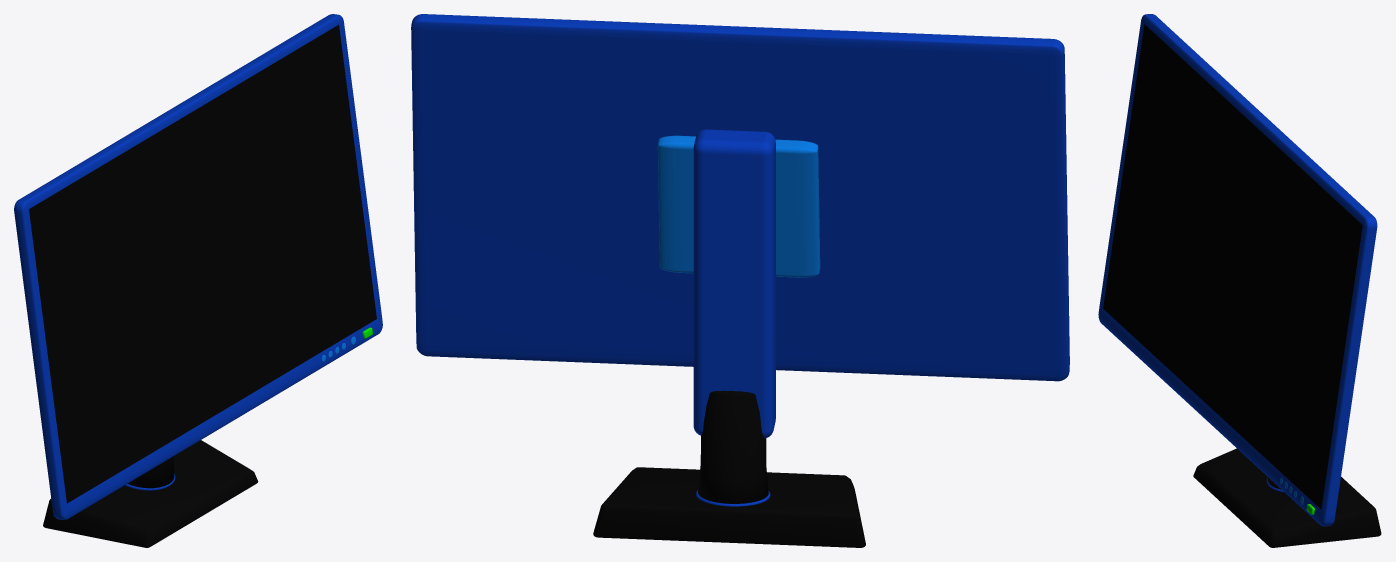
The model's file is Monitor.fbx.
3 renders of one model, left to right at view 1: azimuth 30°, elevation 25°; view 2: azimuth 150°, elevation 25°; view 3: azimuth 270°, elevation 25°, orthographic. The views are drawn at different scales.
Parts seen in each view (by area): view 1: Plane.001, Cube, Cube.002, Cylinder; view 2: Cube, Cube.001, Cube.002, Cube.003, Cylinder; view 3: Plane.001, Cube, Cube.002.
Part boxes in pixels (bbox=[...]): Plane.001: bbox=[29, 25, 376, 503]; Cube: bbox=[14, 14, 382, 519]; Cube.002: bbox=[43, 440, 258, 547]; Cylinder: bbox=[127, 456, 174, 488]; Cube: bbox=[411, 14, 1069, 381]; Cube.001: bbox=[693, 129, 775, 438]; Cube.002: bbox=[593, 467, 865, 547]; Cube.003: bbox=[657, 135, 820, 277]; Cylinder: bbox=[698, 390, 768, 503]; Plane.001: bbox=[1103, 24, 1362, 509]; Cube: bbox=[1098, 14, 1377, 526]; Cube.002: bbox=[1193, 448, 1381, 547].
Size of the model in its own units: 304 by 255 by 166.
